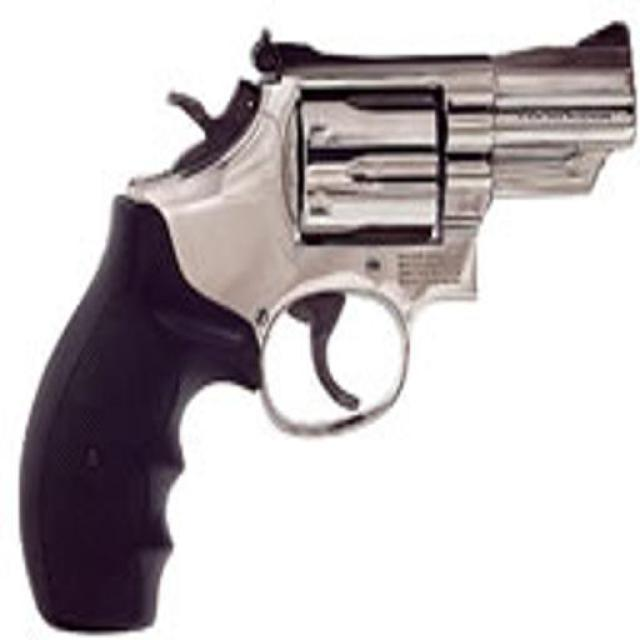pistol: (19, 20, 640, 626)
